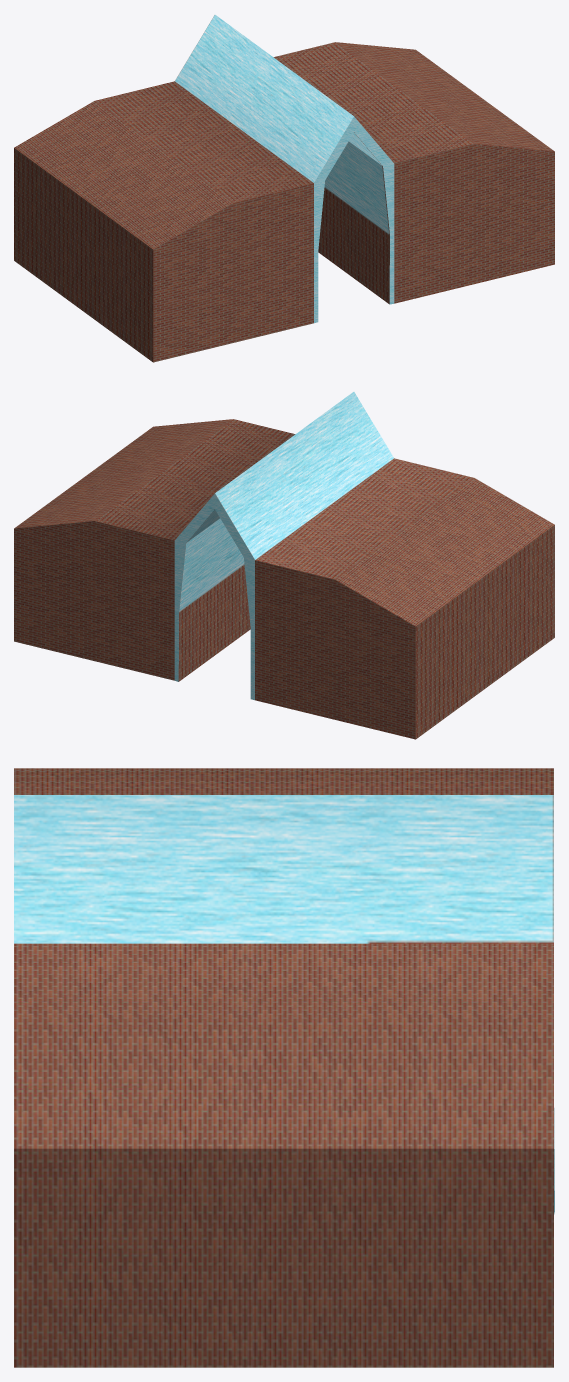
File: FirstWordl_Buildings_ShoppingMall.FBX
The picture shows the model from 3 angles, top to bottom: view 1: azimuth 30°, elevation 25°; view 2: azimuth 150°, elevation 25°; view 3: azimuth 270°, elevation 25°; orthographic projection. The views are drawn at different scales.
Parts seen in each view (by area): view 1: Box001; view 2: Box001; view 3: Box001.
Part boxes in pixels (bbox=[...]): Box001: bbox=[14, 15, 554, 362]; Box001: bbox=[14, 392, 554, 739]; Box001: bbox=[14, 768, 554, 1367].
Bounding box in the file's own units: 150 × 70.37 × 90.18.
Materials: 1 (1 with a texture image).
